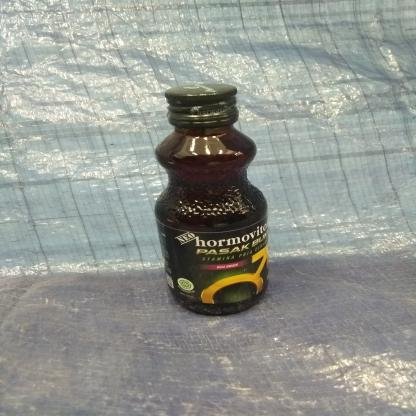glass: (148, 78, 280, 320)
